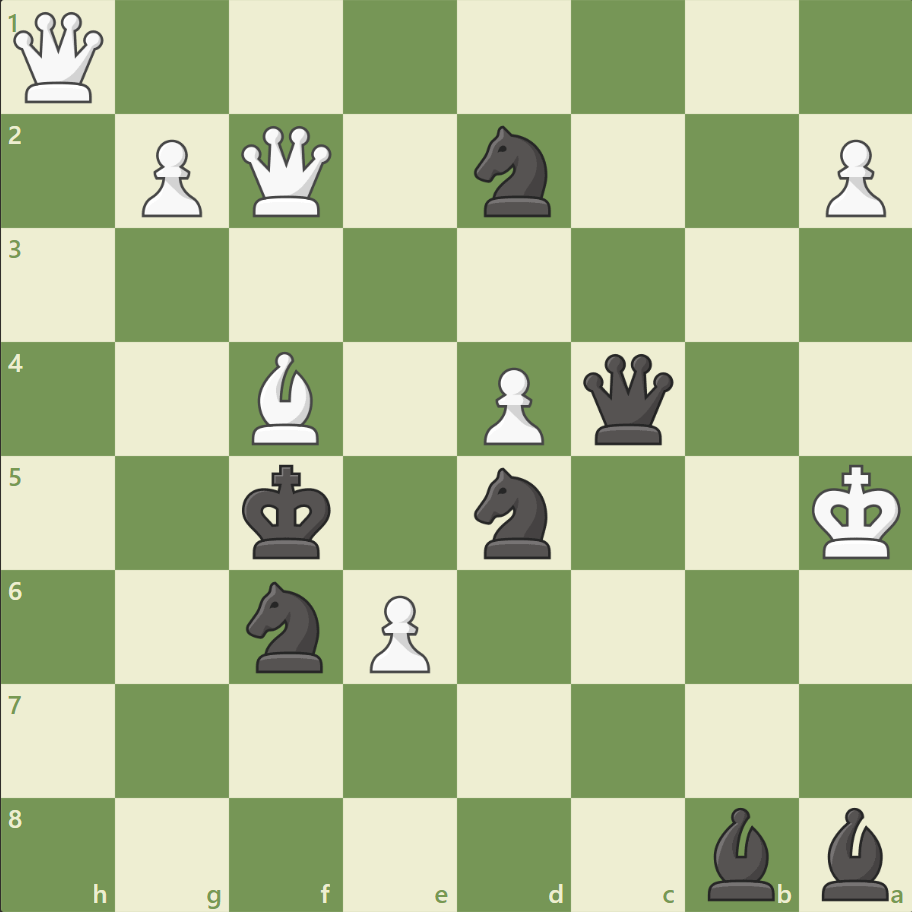B: (244, 347, 328, 449)
K: (806, 458, 906, 566)
P: (474, 359, 549, 450), (133, 132, 208, 223), (361, 586, 435, 677), (815, 132, 889, 223)
Q: (237, 122, 336, 222), (10, 9, 109, 108)
b: (812, 801, 896, 904), (698, 801, 782, 904)
k: (238, 458, 338, 566)
n: (465, 461, 562, 564), (238, 575, 335, 677), (465, 121, 562, 223)
q: (578, 349, 677, 449)
